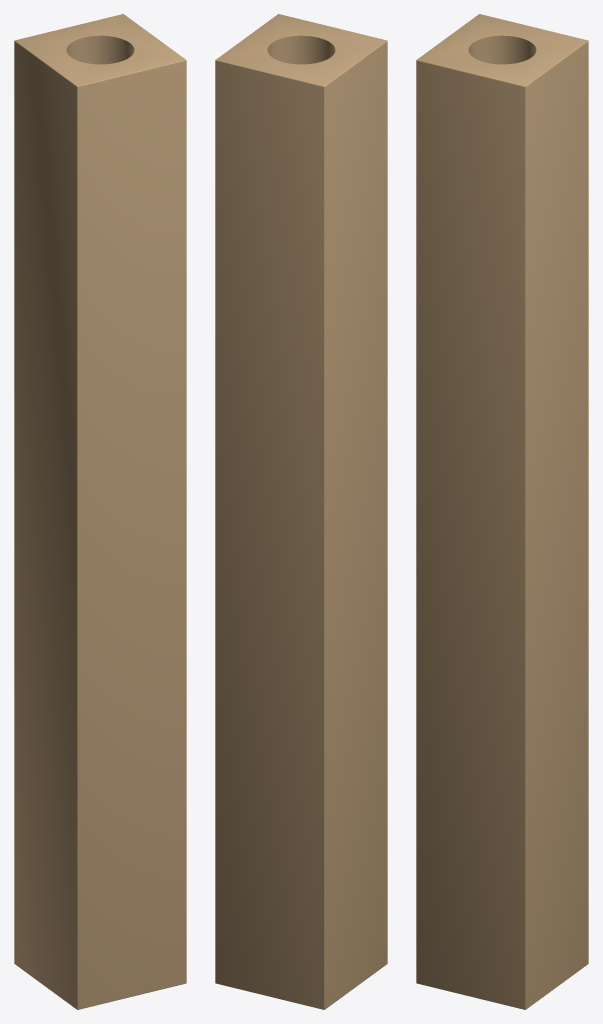
File: blk_pillar_h8.glb
3 renders of one model, left to right at view 1: azimuth 30°, elevation 25°; view 2: azimuth 150°, elevation 25°; view 3: azimuth 330°, elevation 25°, orthographic.
Parts seen in each view (by area): view 1: blk_pillar_h8_lod0; view 2: blk_pillar_h8_lod0; view 3: blk_pillar_h8_lod0.
Part boxes in pixels (box(x1,y1,x2,y2)): blk_pillar_h8_lod0: box(14, 14, 186, 1009); blk_pillar_h8_lod0: box(215, 14, 387, 1009); blk_pillar_h8_lod0: box(416, 14, 588, 1009).
Size of what is drawn, in the model's own units: 0.0596 by 0.4796 by 0.0596.
